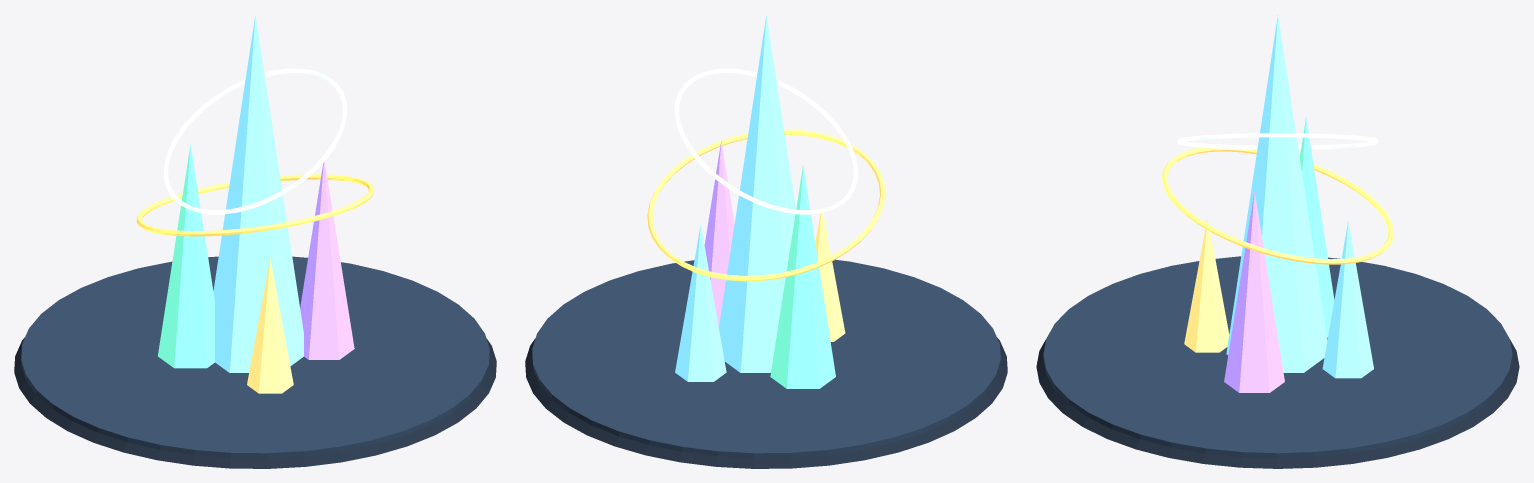
Rendered from crystal-spire.glb.
The picture shows the model from 3 angles, left to right: view 1: azimuth 30°, elevation 25°; view 2: azimuth 150°, elevation 25°; view 3: azimuth 270°, elevation 25°; orthographic projection.
Parts seen in each view (by area): view 1: crystal-spire; view 2: crystal-spire; view 3: crystal-spire.
Boxes of the visible parts, x1,y1,x2,y2 form: crystal-spire: (14, 14, 496, 468); crystal-spire: (525, 14, 1007, 468); crystal-spire: (1036, 15, 1519, 468).
Size of the model in its own units: 1.24 by 1 by 1.24.
